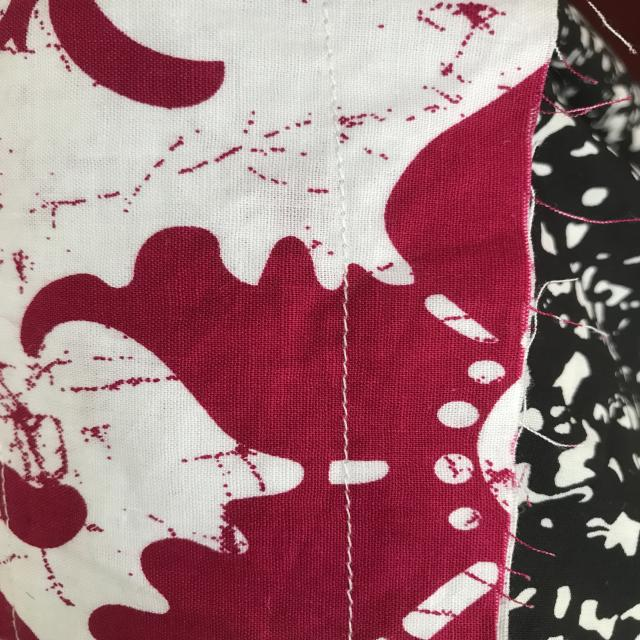good: (334, 498, 376, 624), (328, 306, 365, 444)
